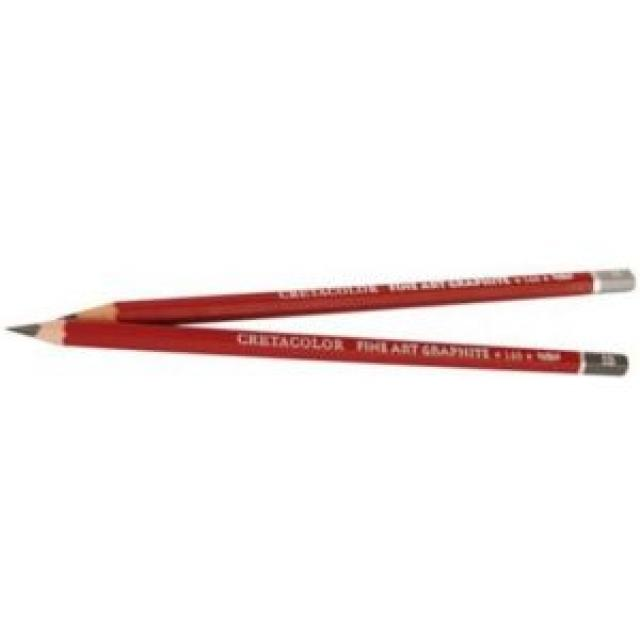pencil: (2, 317, 635, 386), (58, 267, 638, 332)
